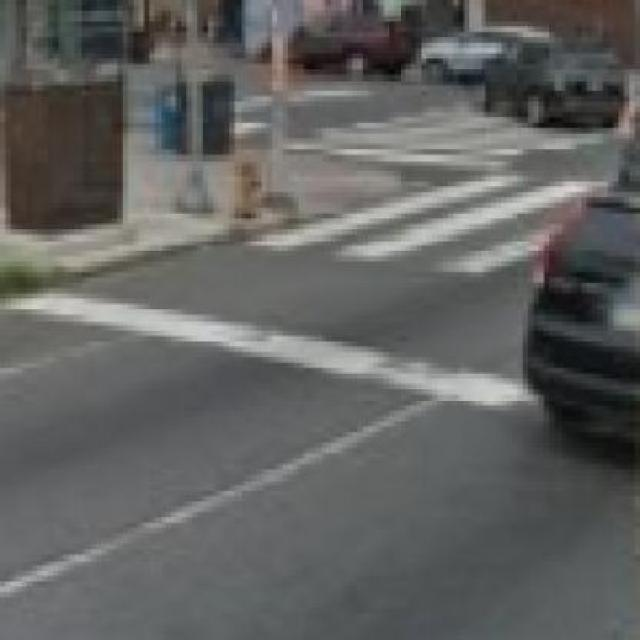crosswalk: (244, 175, 603, 285), (284, 105, 625, 168)
